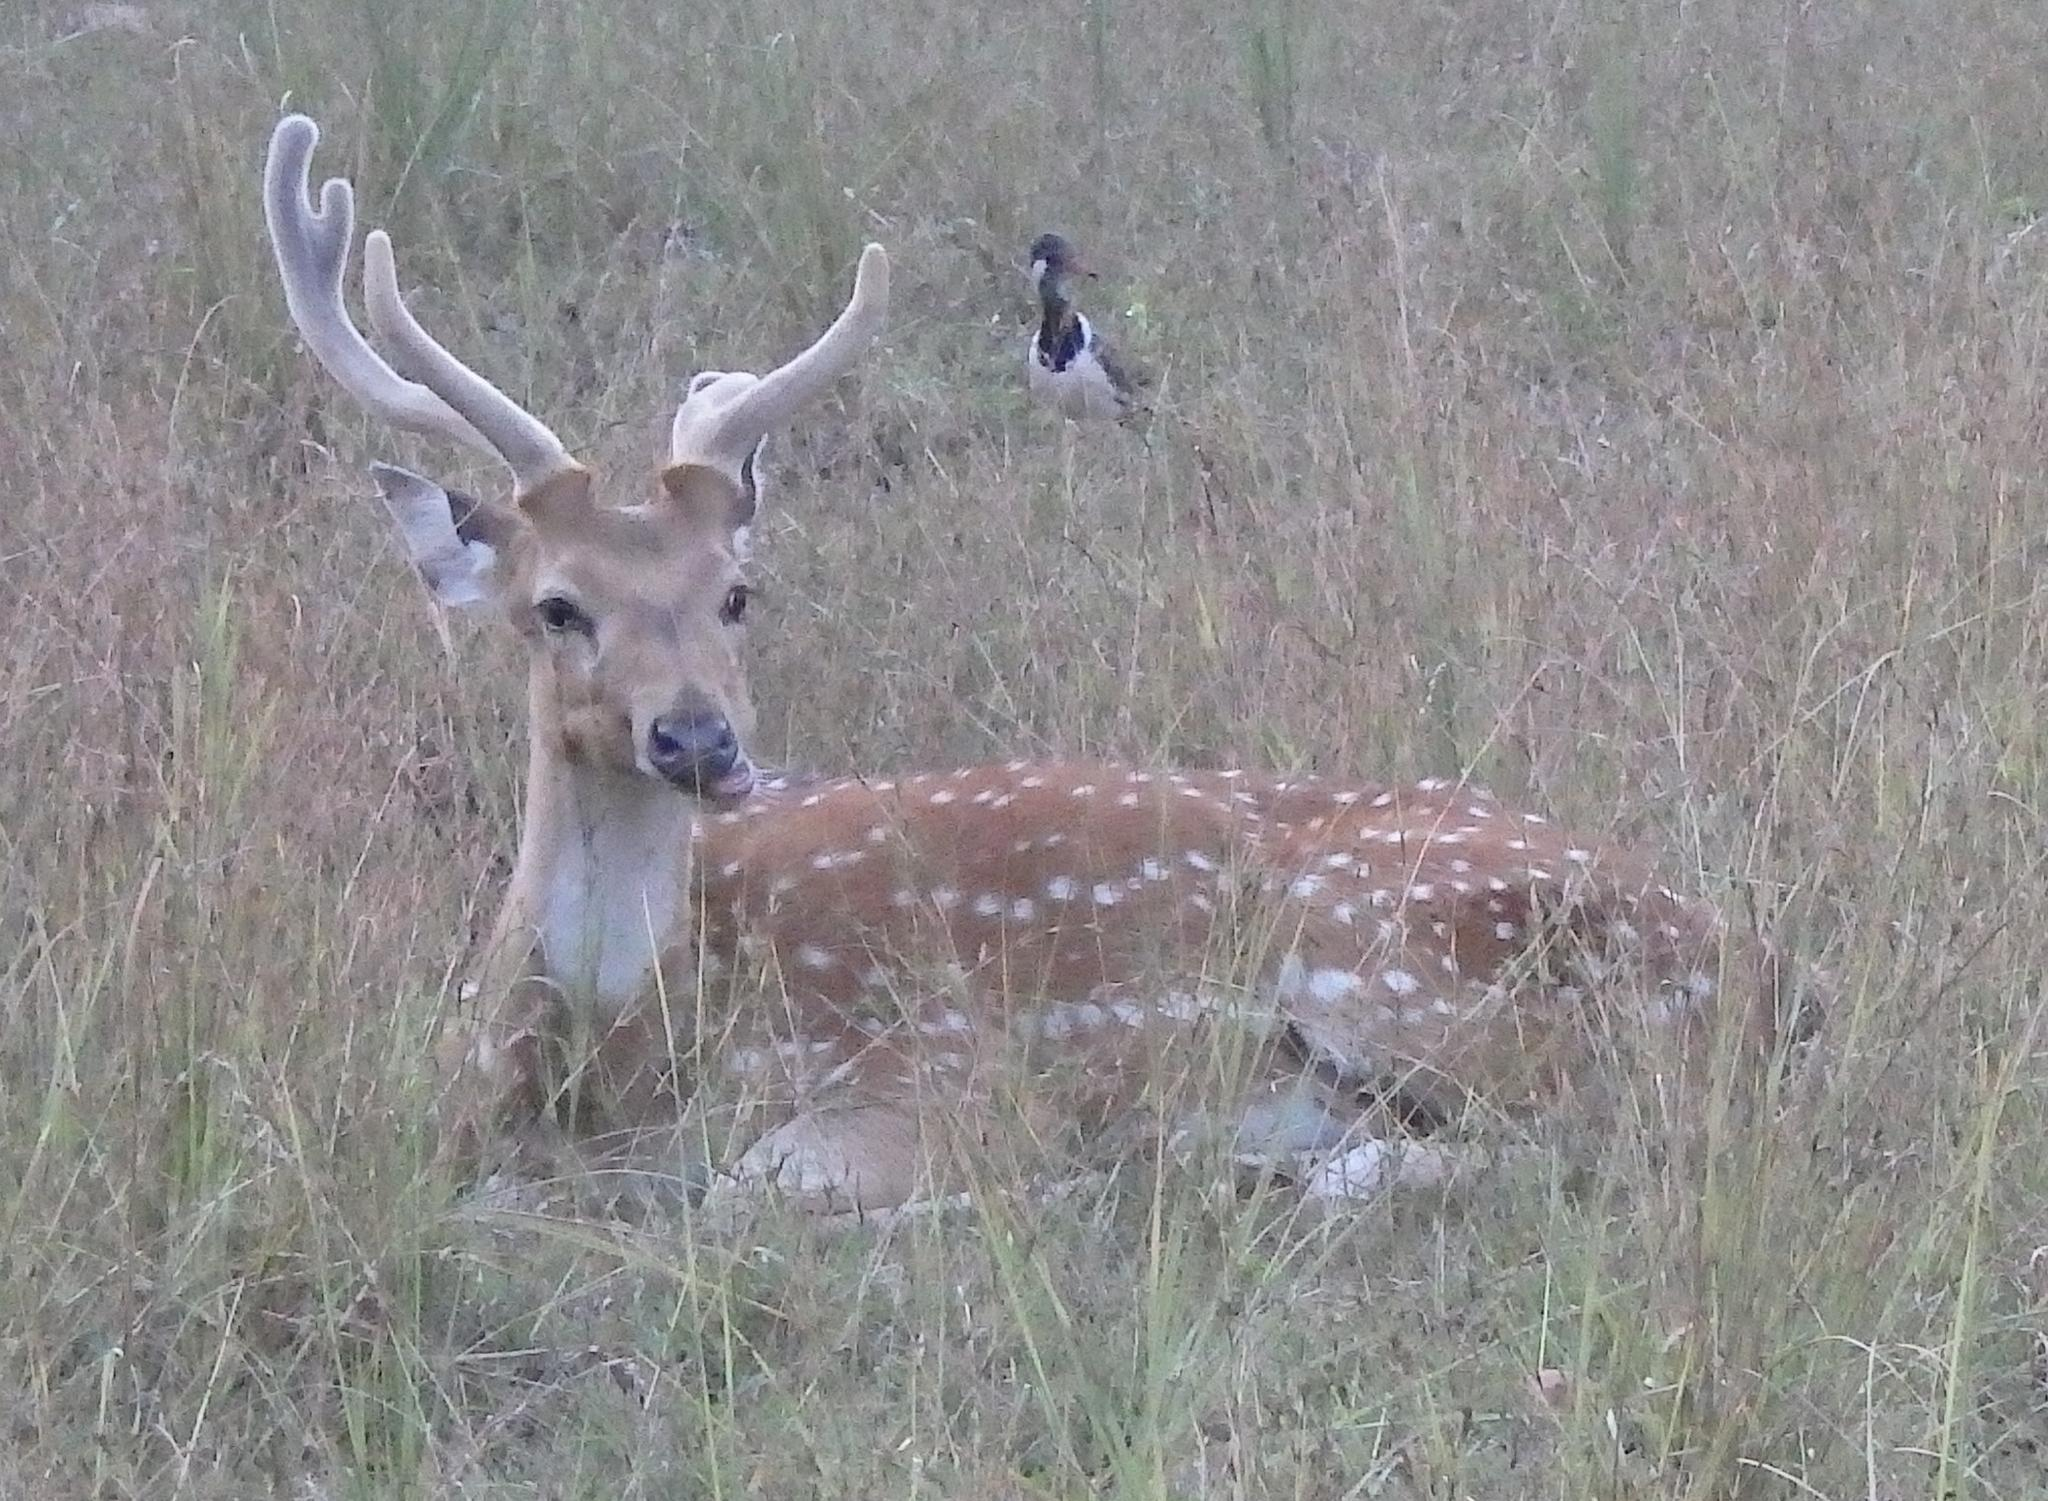Deer: (264, 114, 1703, 1207)
